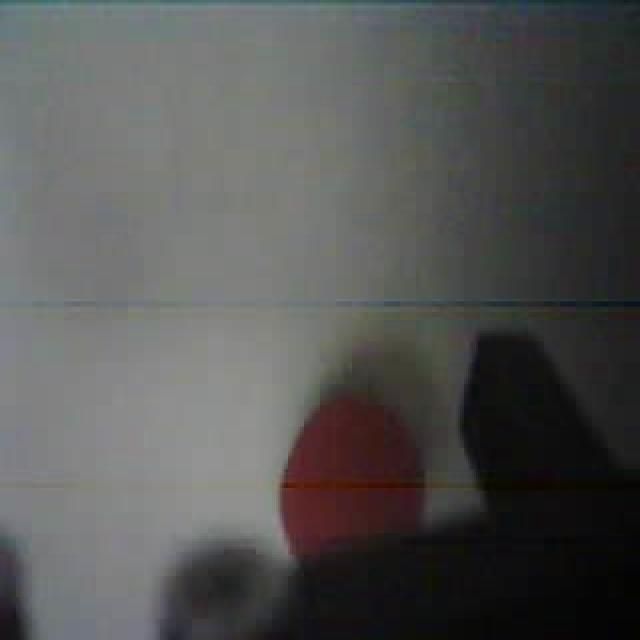red_ball: (274, 384, 428, 568)
